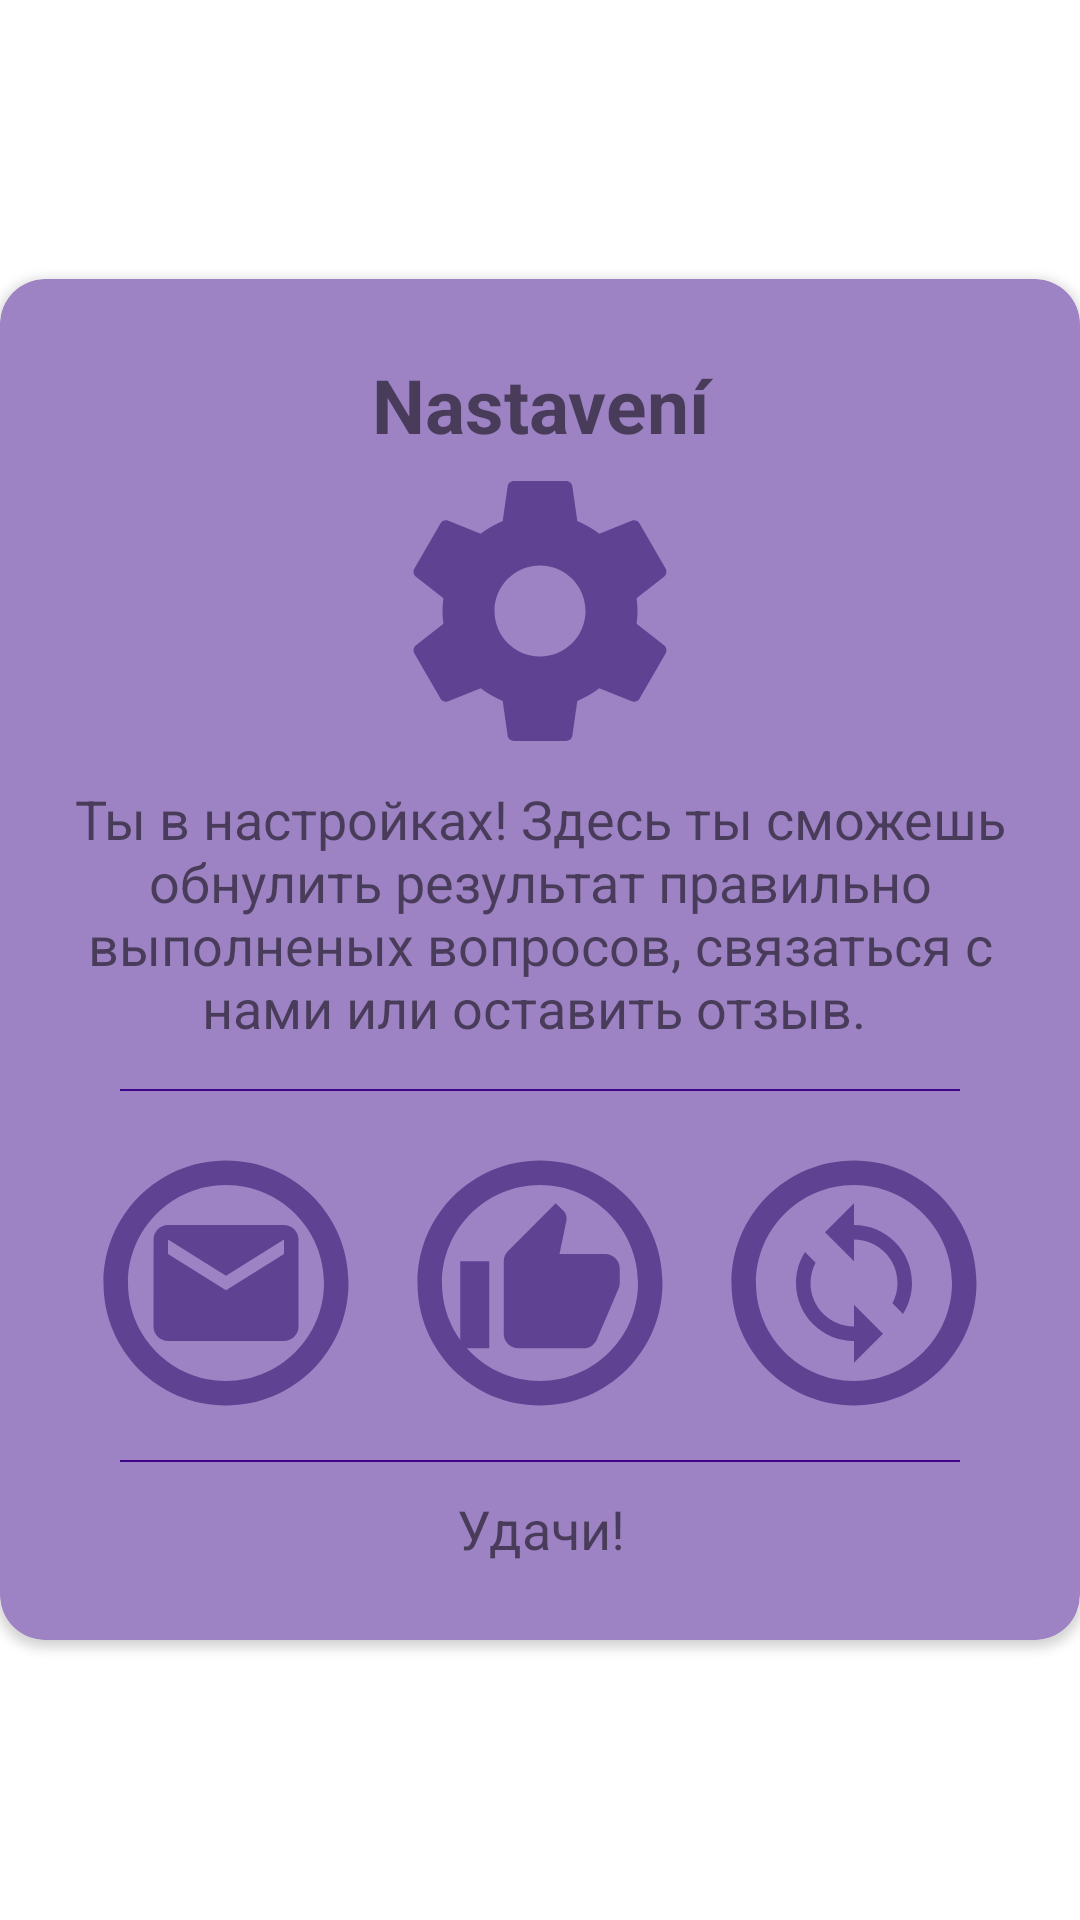

Locate icon controls on the screen. Image size 1080 × 1920, boxes as (x1, y1, x2, y2).
restart: (731, 1160, 977, 1406)
review: (417, 1160, 663, 1406)
send: (103, 1160, 349, 1406)
